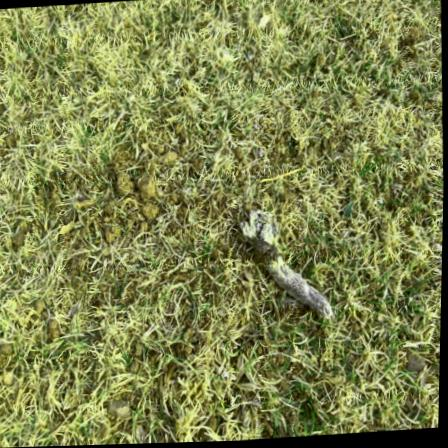dog-poop: (237, 201, 341, 327)
